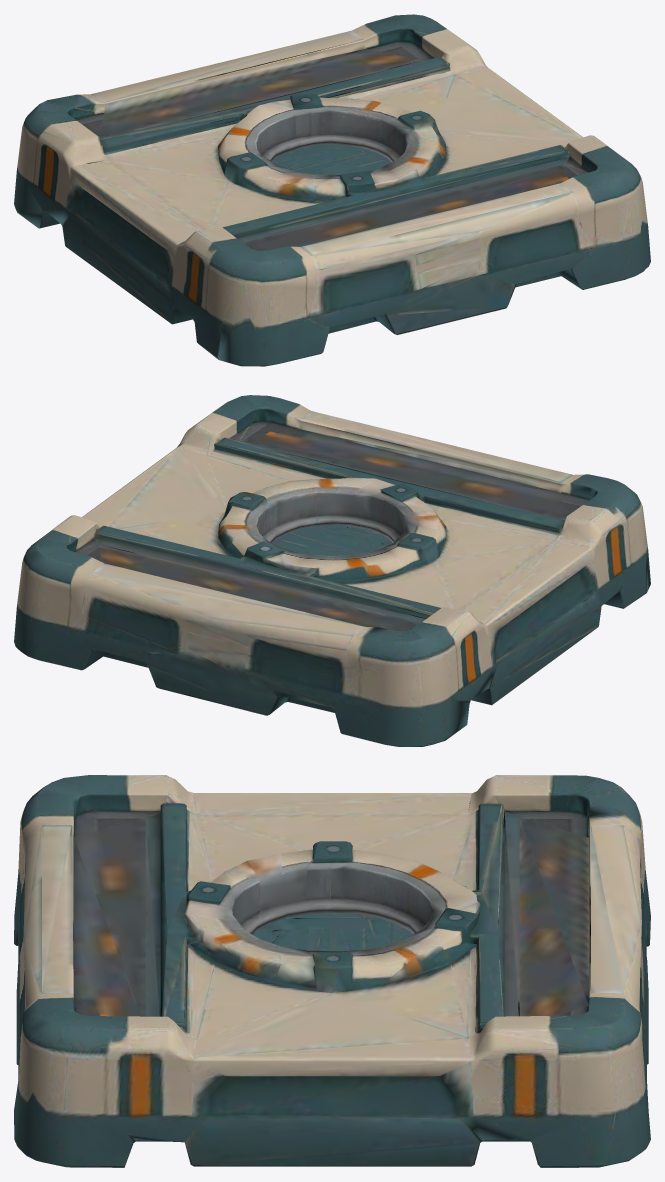
The model's file is rocket_pad-lod0.f3b9f3ec8c9f.glb.
3 renders of one model, top to bottom at view 1: azimuth 30°, elevation 25°; view 2: azimuth 150°, elevation 25°; view 3: azimuth 270°, elevation 25°, orthographic. The views are drawn at different scales.
Parts seen in each view (by area): view 1: geometry_0; view 2: geometry_0; view 3: geometry_0.
Part boxes in pixels (x1,y1,x2,y2): geometry_0: [14, 14, 650, 366]; geometry_0: [14, 395, 650, 746]; geometry_0: [14, 775, 650, 1167].
Size of the model in its own units: 0.9507 by 0.2061 by 0.9258.
Materials: 1 (1 with a texture image).
